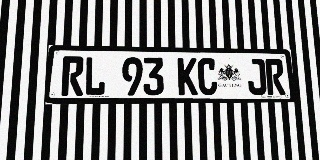3: (143, 57, 164, 95)
9: (122, 57, 143, 95)
C: (197, 58, 218, 95)
J: (246, 59, 267, 95)
K: (177, 58, 198, 95)
L: (84, 56, 106, 96)
R: (61, 56, 84, 96), (265, 59, 286, 95)
